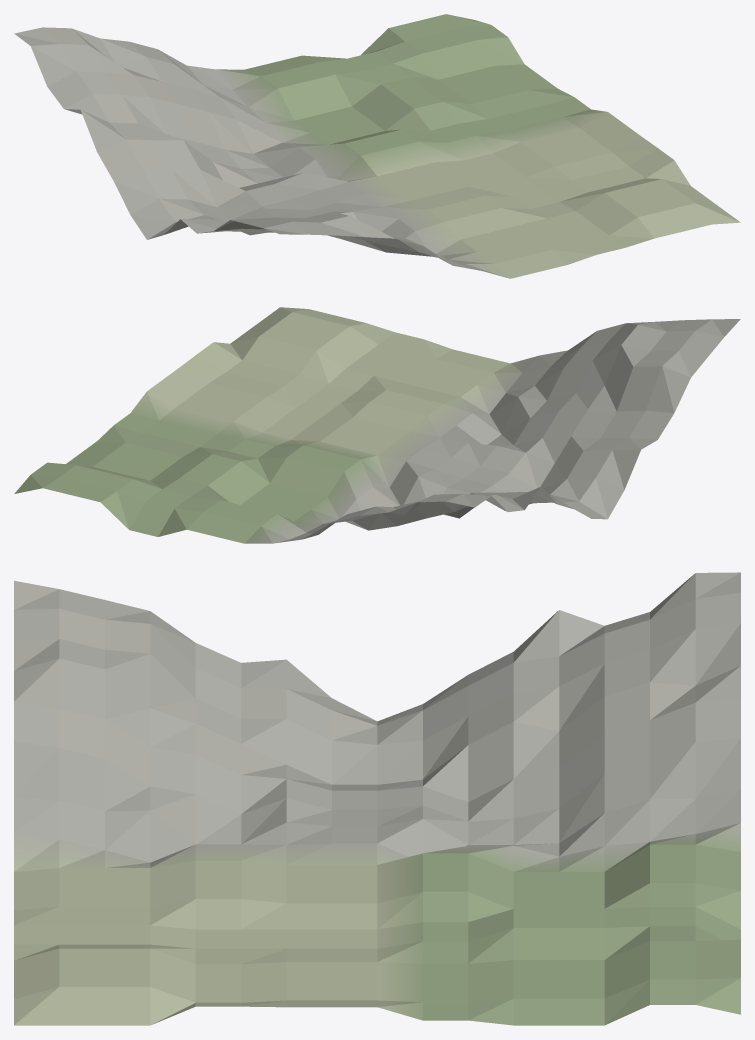
3 renders of one model, top to bottom at view 1: azimuth 30°, elevation 25°; view 2: azimuth 150°, elevation 25°; view 3: azimuth 270°, elevation 25°, orthographic. The views are drawn at different scales.
Bounding box in the file's own units: 32 × 7.65 × 32.
